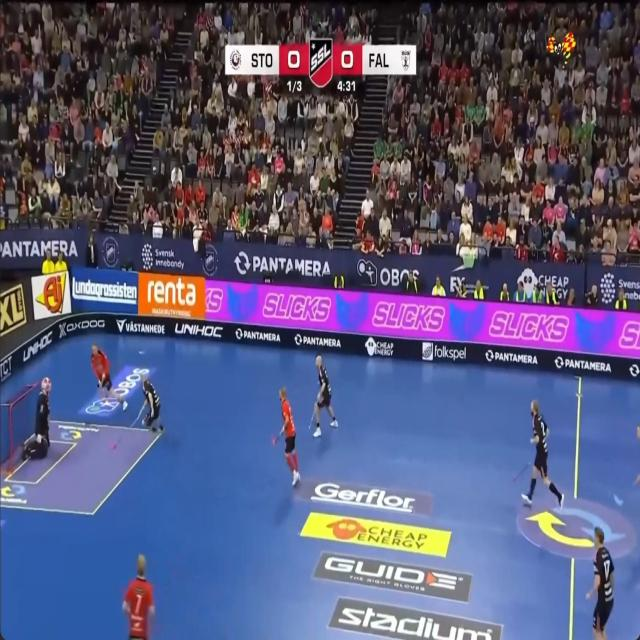player: (522, 399, 564, 509), (587, 527, 614, 639), (122, 554, 155, 639), (22, 377, 50, 460), (92, 344, 127, 409), (279, 387, 300, 485), (313, 355, 338, 436), (141, 375, 163, 431)
stick: (512, 461, 531, 482), (131, 401, 146, 426), (308, 409, 314, 428), (271, 434, 279, 444), (316, 395, 319, 404)
